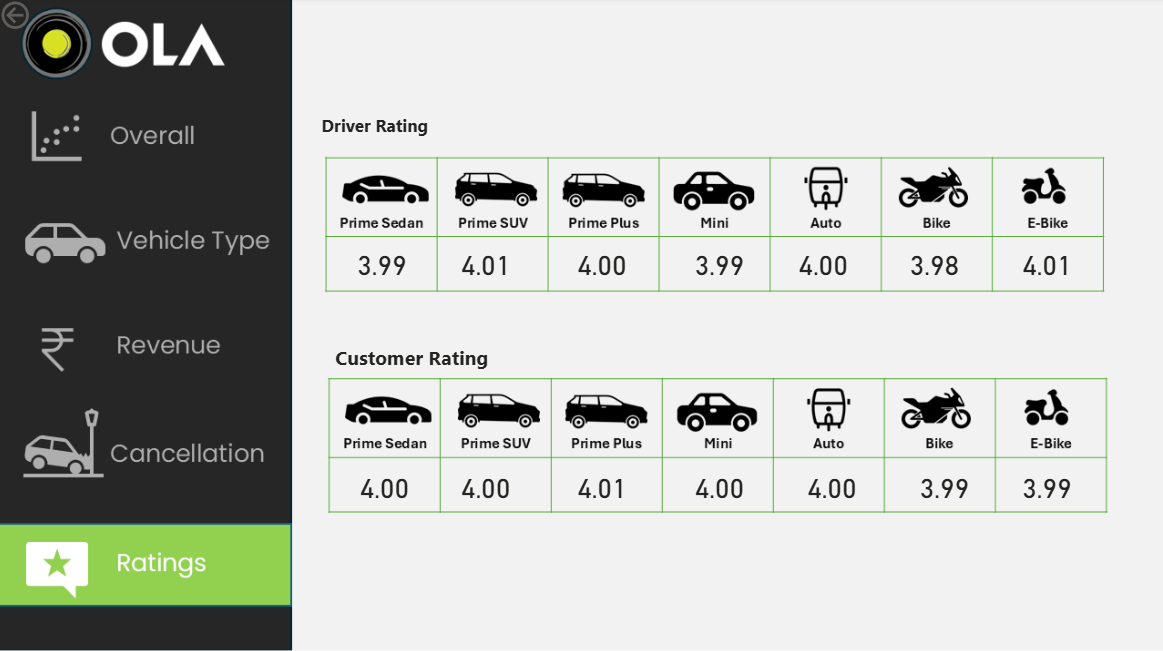

The dashboard page shown, as its layout file describes it:
{"tool":"powerbi","page":{"name":"Ratings","canvas":[1280,720],"ordinal":4},"visuals":[{"type":"actionButton","box":[0,342.6,324.5,91.7],"z":0},{"type":"actionButton","box":[0,229.2,324.5,91.7],"z":1000},{"type":"actionButton","box":[1.2,446.4,324.5,91.7],"z":2000},{"type":"actionButton","box":[0,114.6,324.5,91.7],"z":3000},{"type":"card","fields":{"Values":["Avg(Bookings_Cleaned.Driver_Ratings)"]},"box":[367.1,264.3,113.1,55.8],"z":3001},{"type":"card","fields":{"Values":["Avg(Bookings_Cleaned.Driver_Ratings)"]},"box":[480.1,264.3,113.1,55.8],"z":3002},{"type":"card","fields":{"Values":["Avg(Bookings_Cleaned.Driver_Ratings)"]},"box":[607.8,264.3,113.1,55.8],"z":3003},{"type":"card","fields":{"Values":["Avg(Bookings_Cleaned.Driver_Ratings)"]},"box":[737.1,264.3,113.1,55.8],"z":3004},{"type":"card","fields":{"Values":["Avg(Bookings_Cleaned.Driver_Ratings)"]},"box":[850.1,264.3,113.1,55.8],"z":3005},{"type":"card","fields":{"Values":["Avg(Bookings_Cleaned.Driver_Ratings)"]},"box":[973.4,264.3,113.1,55.8],"z":3006},{"type":"card","fields":{"Values":["Avg(Bookings_Cleaned.Driver_Ratings)"]},"box":[1096.8,264.3,113.1,55.8],"z":3007},{"type":"card","fields":{"Values":["Avg(Bookings_Cleaned.Customer_Rating)"]},"box":[368.5,509.5,113.1,55.8],"z":3008},{"type":"textbox","box":[350.9,123.3,149.8,36.7],"z":3009},{"type":"actionButton","box":[0,0,100,40],"z":3010},{"type":"card","fields":{"Values":["Avg(Bookings_Cleaned.Customer_Rating)"]},"box":[480.1,509.5,113.1,55.8],"z":3011},{"type":"card","fields":{"Values":["Avg(Bookings_Cleaned.Customer_Rating)"]},"box":[607.8,509.5,113.1,55.8],"z":3012},{"type":"card","fields":{"Values":["Avg(Bookings_Cleaned.Customer_Rating)"]},"box":[737.1,509.5,113.1,55.8],"z":3013},{"type":"card","fields":{"Values":["Avg(Bookings_Cleaned.Customer_Rating)"]},"box":[860.4,509.5,113.1,55.8],"z":3014},{"type":"card","fields":{"Values":["Avg(Bookings_Cleaned.Customer_Rating)"]},"box":[983.7,509.5,113.1,55.8],"z":3015},{"type":"card","fields":{"Values":["Avg(Bookings_Cleaned.Customer_Rating)"]},"box":[1096.8,509.5,113.1,55.8],"z":3016},{"type":"textbox","box":[367.1,375.9,226.1,57.3],"z":3018}]}

Visuals, with their boxes on the page's 1280x720 design canvas (x1, y1, x2, y2). These are canvas units, not pixel positions in the 1163x651 screenshot, which may show the page scaled, cropped or inside an application window:
actionButton: <region>0, 343, 324, 434</region>
actionButton: <region>0, 229, 324, 321</region>
actionButton: <region>1, 446, 326, 538</region>
actionButton: <region>0, 115, 324, 206</region>
card - Avg(Bookings_Cleaned.Driver_Ratings): <region>367, 264, 480, 320</region>
card - Avg(Bookings_Cleaned.Driver_Ratings): <region>480, 264, 593, 320</region>
card - Avg(Bookings_Cleaned.Driver_Ratings): <region>608, 264, 721, 320</region>
card - Avg(Bookings_Cleaned.Driver_Ratings): <region>737, 264, 850, 320</region>
card - Avg(Bookings_Cleaned.Driver_Ratings): <region>850, 264, 963, 320</region>
card - Avg(Bookings_Cleaned.Driver_Ratings): <region>973, 264, 1086, 320</region>
card - Avg(Bookings_Cleaned.Driver_Ratings): <region>1097, 264, 1210, 320</region>
card - Avg(Bookings_Cleaned.Customer_Rating): <region>368, 510, 482, 565</region>
textbox: <region>351, 123, 501, 160</region>
actionButton: <region>0, 0, 100, 40</region>
card - Avg(Bookings_Cleaned.Customer_Rating): <region>480, 510, 593, 565</region>
card - Avg(Bookings_Cleaned.Customer_Rating): <region>608, 510, 721, 565</region>
card - Avg(Bookings_Cleaned.Customer_Rating): <region>737, 510, 850, 565</region>
card - Avg(Bookings_Cleaned.Customer_Rating): <region>860, 510, 974, 565</region>
card - Avg(Bookings_Cleaned.Customer_Rating): <region>984, 510, 1097, 565</region>
card - Avg(Bookings_Cleaned.Customer_Rating): <region>1097, 510, 1210, 565</region>
textbox: <region>367, 376, 593, 433</region>
